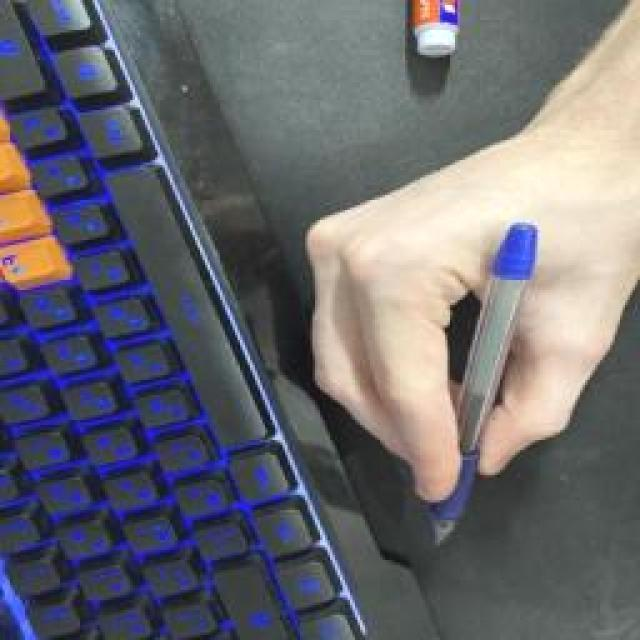pen: (430, 220, 540, 548)
